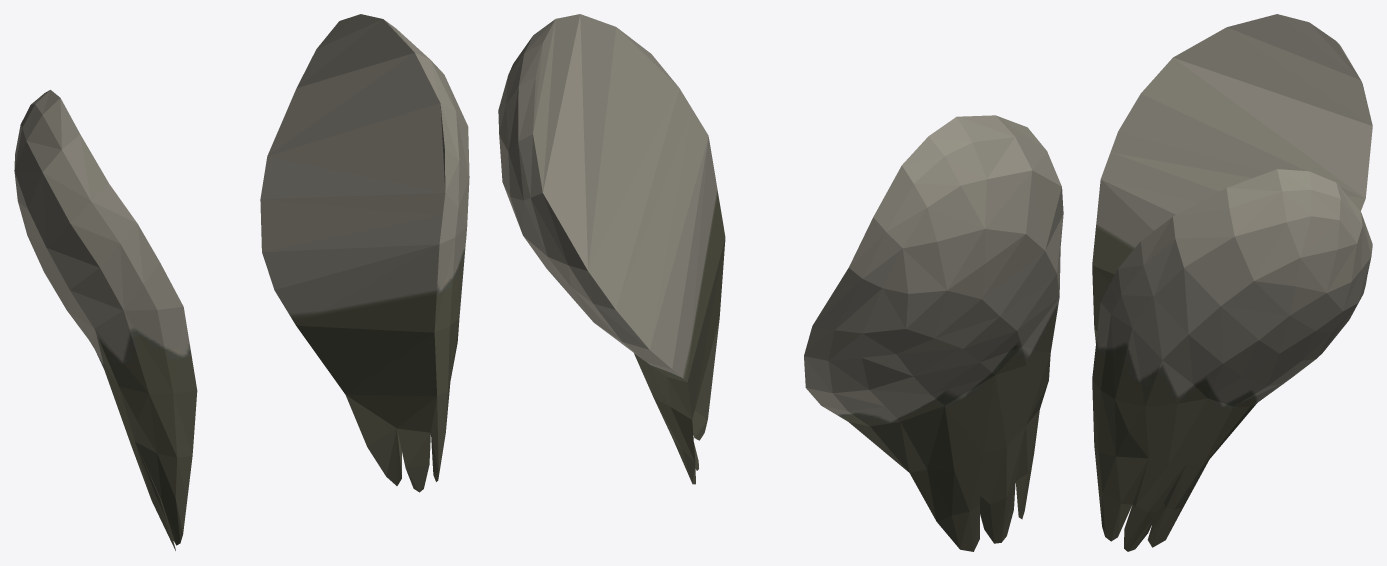
The model's file is BR_Starly-Shiny02.obj.
3 views of the same model, side by side, from view 1: azimuth 30°, elevation 25°; view 2: azimuth 150°, elevation 25°; view 3: azimuth 270°, elevation 25° (orthographic). The views are drawn at different scales.
Parts seen in each view (by area): view 1: mukkuru; view 2: mukkuru; view 3: mukkuru.
Part boxes in pixels (<box>): mukkuru: <box>14,14,469,550</box>; mukkuru: <box>498,14,1063,551</box>; mukkuru: <box>1092,14,1372,551</box>.
Bounding box in the file's own units: 2.24 × 2.13 × 1.35.
Materials: 1 (1 with a texture image).
